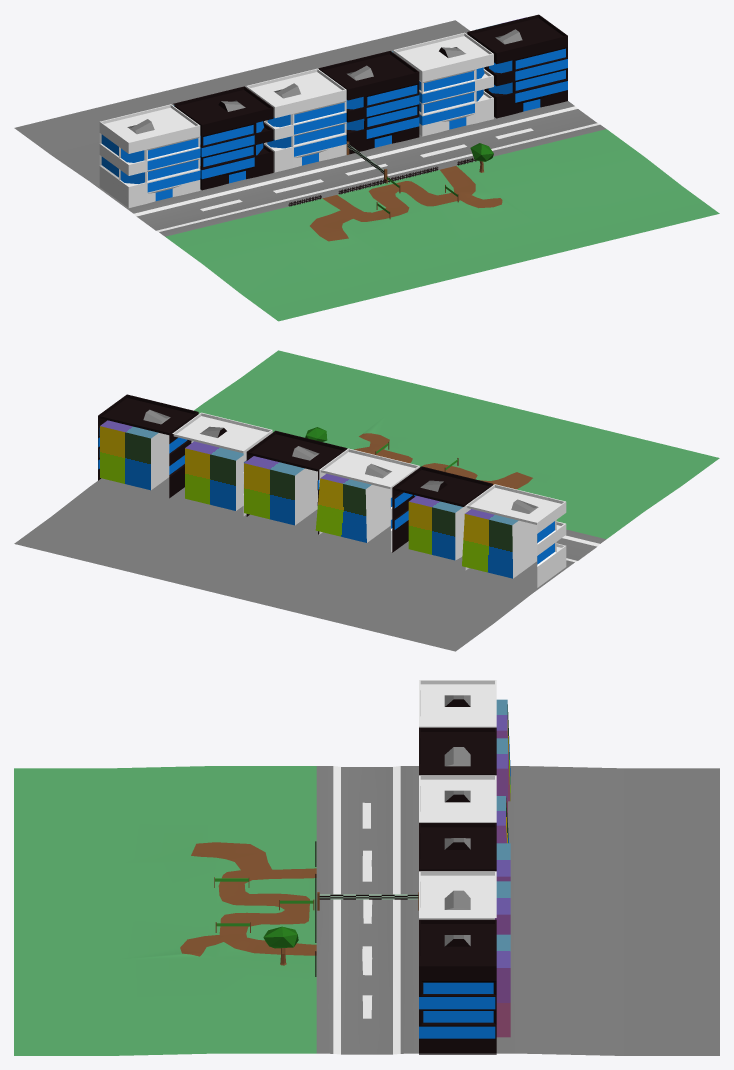
Rendered from track2.fbx.
The picture shows the model from 3 angles, top to bottom: view 1: azimuth 30°, elevation 25°; view 2: azimuth 150°, elevation 25°; view 3: azimuth 270°, elevation 25°; orthographic projection. The views are drawn at different scales.
Parts seen in each view (by area): view 1: ground, budovy, fence.001; view 2: ground, budovy; view 3: ground, budovy, strom, finish.005.
Boxes of the visible parts, x1,y1,x2,y2 form: ground: [14, 20, 719, 321]; budovy: [99, 14, 567, 207]; fence.001: [288, 158, 476, 206]; ground: [14, 350, 719, 651]; budovy: [98, 394, 566, 587]; ground: [14, 766, 719, 1055]; budovy: [419, 680, 510, 1054]; strom: [263, 926, 298, 965]; finish.005: [317, 892, 418, 910].
Size of the model in its own units: 22716 by 3740 by 23557.
